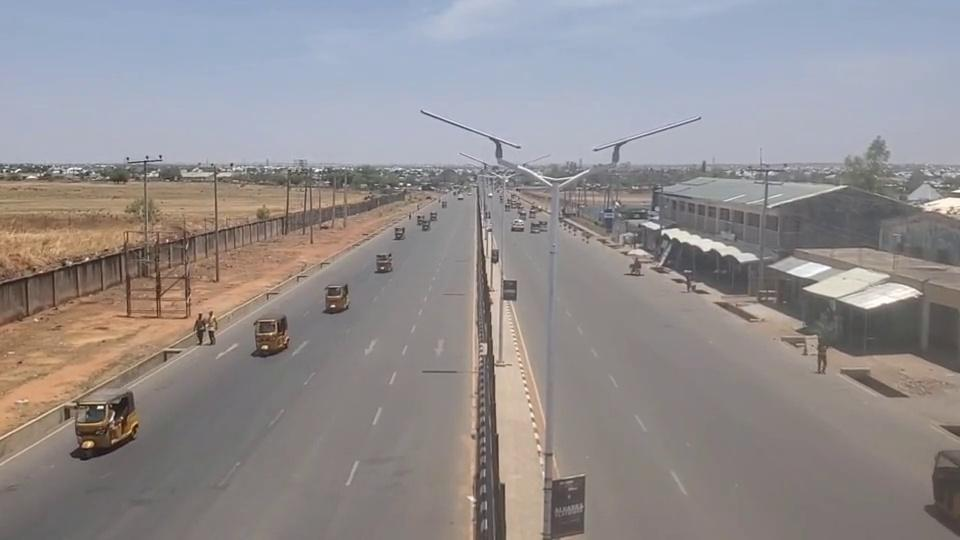car: (512, 219, 524, 231)
keke: (72, 389, 139, 452), (930, 447, 960, 531), (252, 313, 289, 355), (324, 282, 349, 312), (376, 251, 393, 275)
